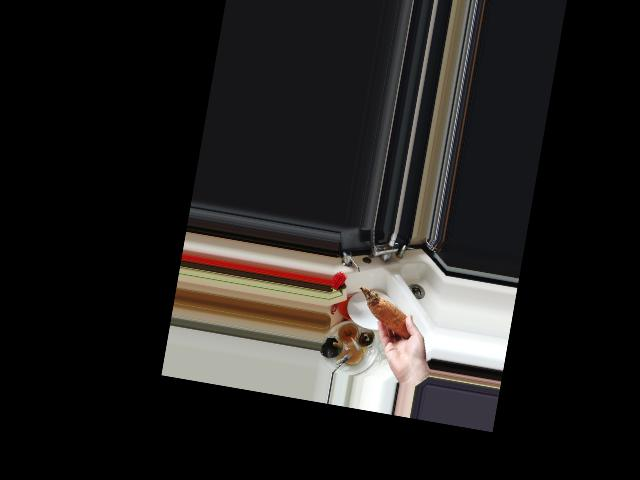sweet_potato: (350, 285, 422, 344)
